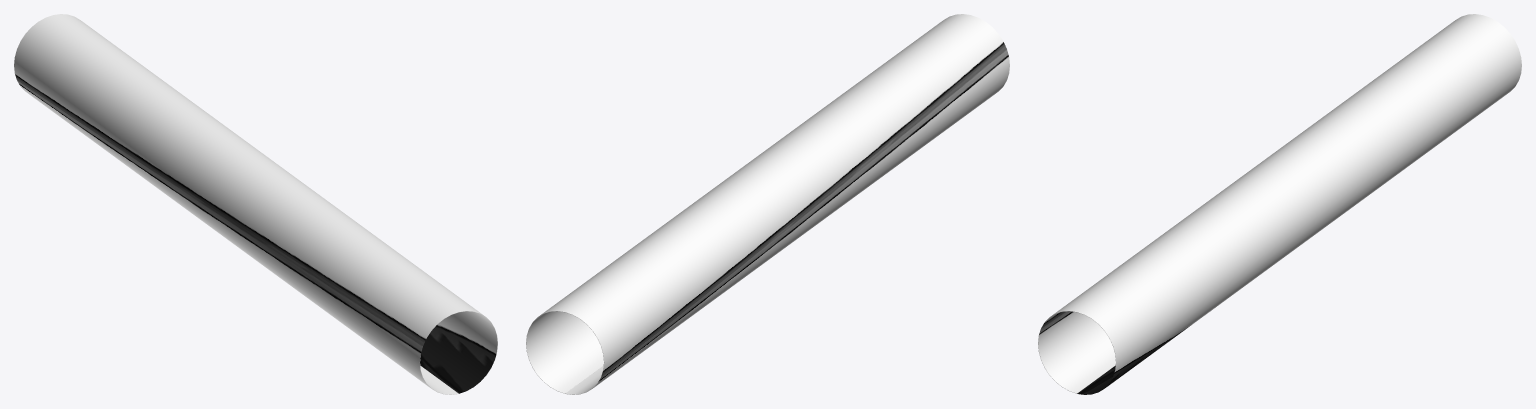
Rendered from Level 85 unroll hadouken.fbx.
3 views of the same model, side by side, from view 1: azimuth 30°, elevation 25°; view 2: azimuth 150°, elevation 25°; view 3: azimuth 330°, elevation 25° (orthographic).
Parts seen in each view (by area): view 1: BlendMesh; view 2: BlendMesh; view 3: BlendMesh.
Boxes of the visible parts, x1=… form: BlendMesh: x1=14, y1=14, x2=497, y2=394; BlendMesh: x1=526, y1=14, x2=1009, y2=394; BlendMesh: x1=1038, y1=14, x2=1521, y2=394.
Size of what is drawn, in the model's own units: 64.64 by 64.6 by 581.
